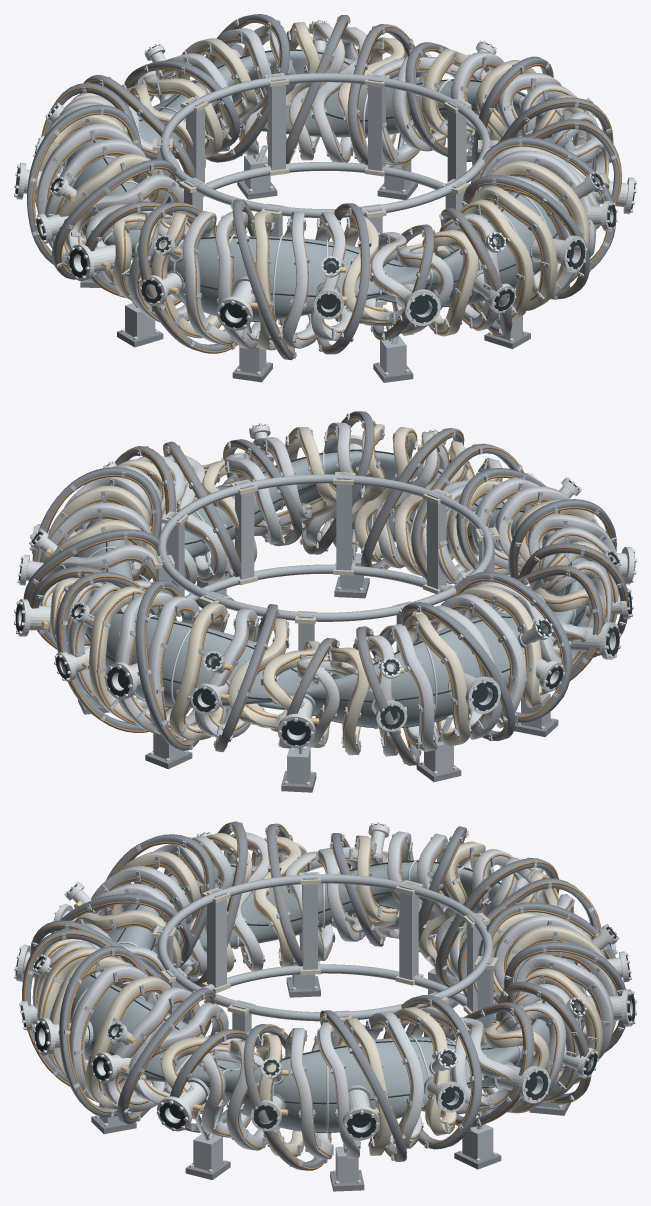
The model's file is stellarator.glb.
3 views of the same model, one above another, from view 1: azimuth 30°, elevation 25°; view 2: azimuth 150°, elevation 25°; view 3: azimuth 270°, elevation 25° (orthographic).
Visible parts, largest first — view 1: coil_nonplanar_casings_satin_titanium, coil_planar_casings_planar_gunmetal, coil_nonplanar_casings_warm_machined_silver, vessel_twisted_shell_vessel_alloy, support_coil_clamps_support_titanium, support_inner_ring_support_titanium, coil_nonplanar_winding_seams_winding_bronze, coil_planar_winding_seams_winding_bronze, support_inboard_saddles_support_titanium, port_flanges_port_silver, port_necks_port_silver, support_feet_support_titanium (+9 smaller); view 2: coil_nonplanar_casings_satin_titanium, coil_planar_casings_planar_gunmetal, coil_nonplanar_casings_warm_machined_silver, vessel_twisted_shell_vessel_alloy, support_inner_ring_support_titanium, support_coil_clamps_support_titanium, coil_nonplanar_winding_seams_winding_bronze, coil_planar_winding_seams_winding_bronze, support_inboard_saddles_support_titanium, port_flanges_port_silver, port_necks_port_silver, port_gaskets_recess_charcoal (+8 smaller); view 3: coil_nonplanar_casings_satin_titanium, coil_planar_casings_planar_gunmetal, coil_nonplanar_casings_warm_machined_silver, vessel_twisted_shell_vessel_alloy, support_coil_clamps_support_titanium, support_inner_ring_support_titanium, coil_nonplanar_winding_seams_winding_bronze, support_inboard_saddles_support_titanium, coil_planar_winding_seams_winding_bronze, port_flanges_port_silver, port_necks_port_silver, support_feet_support_titanium (+8 smaller).
Boxes of the visible parts, x1,y1,x2,y2 form: coil_nonplanar_casings_satin_titanium: [37, 23, 608, 349]; coil_planar_casings_planar_gunmetal: [27, 14, 621, 360]; coil_nonplanar_casings_warm_machined_silver: [35, 22, 609, 350]; vessel_twisted_shell_vessel_alloy: [64, 50, 575, 320]; support_coil_clamps_support_titanium: [30, 16, 617, 358]; support_inner_ring_support_titanium: [160, 73, 490, 301]; coil_nonplanar_winding_seams_winding_bronze: [47, 25, 607, 343]; coil_planar_winding_seams_winding_bronze: [32, 16, 620, 355]; support_inboard_saddles_support_titanium: [157, 74, 493, 236]; port_flanges_port_silver: [16, 22, 634, 330]; port_necks_port_silver: [23, 30, 628, 319]; support_feet_support_titanium: [87, 154, 522, 374]; coil_nonplanar_casings_satin_titanium: [38, 422, 621, 756]; coil_planar_casings_planar_gunmetal: [23, 411, 628, 765]; coil_nonplanar_casings_warm_machined_silver: [37, 424, 618, 755]; vessel_twisted_shell_vessel_alloy: [74, 451, 586, 727]; support_inner_ring_support_titanium: [156, 474, 493, 709]; support_coil_clamps_support_titanium: [31, 413, 625, 763]; coil_nonplanar_winding_seams_winding_bronze: [44, 430, 615, 753]; coil_planar_winding_seams_winding_bronze: [28, 416, 627, 764]; support_inboard_saddles_support_titanium: [156, 472, 494, 650]; port_flanges_port_silver: [18, 425, 634, 747]; port_necks_port_silver: [26, 432, 627, 736]; port_gaskets_recess_charcoal: [15, 425, 635, 745]; coil_nonplanar_casings_satin_titanium: [32, 831, 617, 1159]; coil_planar_casings_planar_gunmetal: [22, 821, 625, 1170]; coil_nonplanar_casings_warm_machined_silver: [34, 833, 616, 1156]; vessel_twisted_shell_vessel_alloy: [70, 862, 584, 1132]; support_coil_clamps_support_titanium: [27, 822, 624, 1166]; support_inner_ring_support_titanium: [157, 874, 493, 1021]; coil_nonplanar_winding_seams_winding_bronze: [36, 836, 601, 1157]; support_inboard_saddles_support_titanium: [157, 872, 493, 1045]; coil_planar_winding_seams_winding_bronze: [24, 824, 621, 1169]; port_flanges_port_silver: [16, 824, 632, 1140]; port_necks_port_silver: [23, 831, 623, 1129]; support_feet_support_titanium: [99, 962, 560, 1183].
Bounding box in the file's own units: 14.88 × 4.46 × 14.73.
